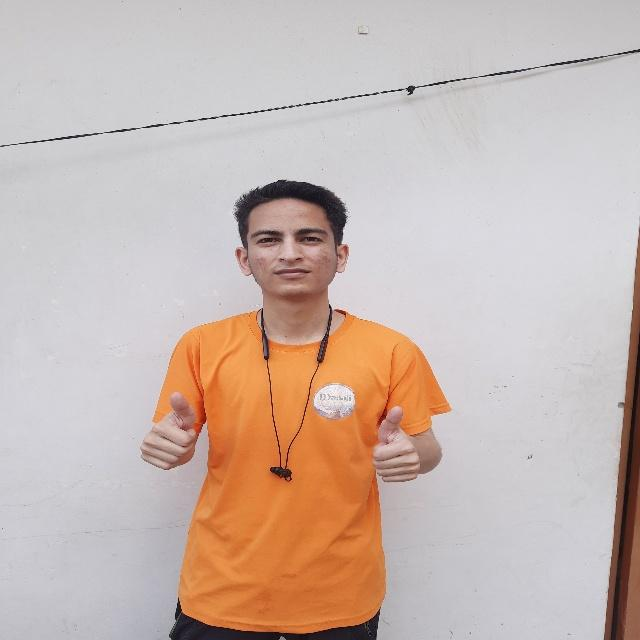Thumbs Up: (134, 387, 208, 474), (368, 402, 427, 489)
